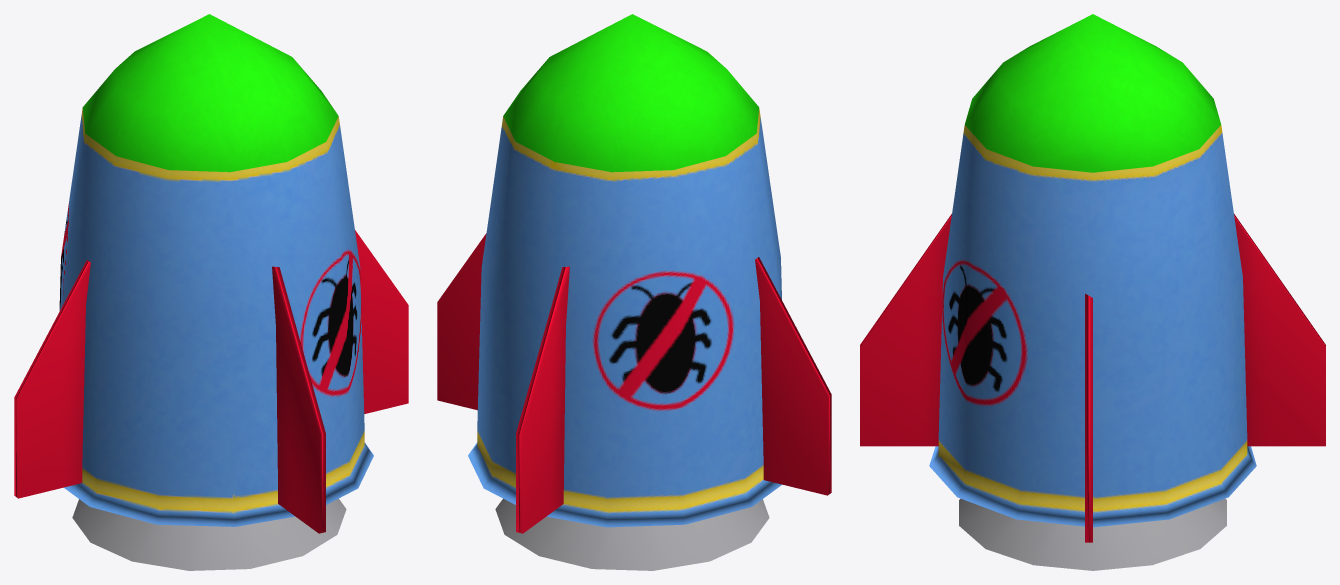
File: Roket.fbx
The picture shows the model from 3 angles, left to right: view 1: azimuth 30°, elevation 25°; view 2: azimuth 150°, elevation 25°; view 3: azimuth 270°, elevation 25°; orthographic projection.
Parts seen in each view (by area): view 1: pCylinder2, pPlane7, pCylinder3, pPlane6; view 2: pCylinder2, pPlane7, pCylinder3, pPlane6; view 3: pCylinder2, pPlane6, pCylinder3, pPlane7.
Boxes of the visible parts, x1,y1,x2,y2 form: pCylinder2: (59, 14, 373, 526); pPlane7: (14, 230, 408, 498); pCylinder3: (72, 498, 346, 570); pPlane6: (272, 266, 325, 533); pCylinder2: (468, 14, 781, 527); pPlane7: (437, 233, 831, 495); pCylinder3: (495, 498, 769, 570); pPlane6: (516, 266, 569, 533); pCylinder2: (929, 14, 1256, 527); pPlane6: (860, 214, 1325, 446); pCylinder3: (959, 498, 1226, 570); pPlane7: (1085, 293, 1092, 542).
Bounding box in the file's own units: 16.12 × 19.71 × 16.67.
